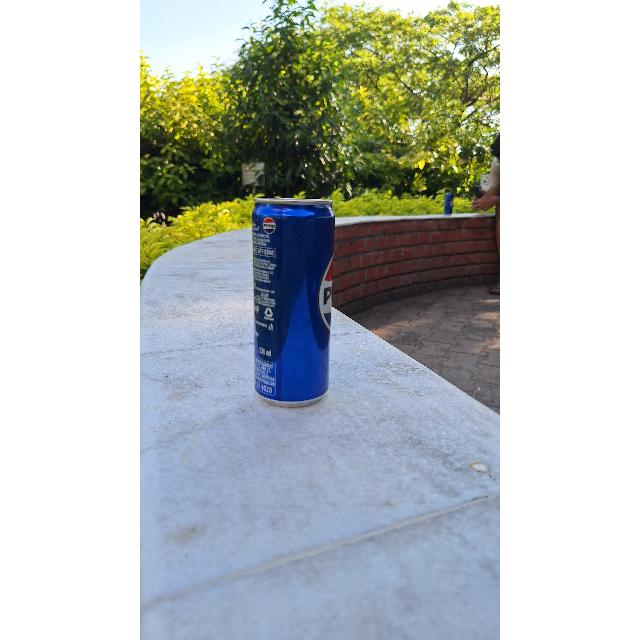Pepsi: (247, 200, 335, 408)
